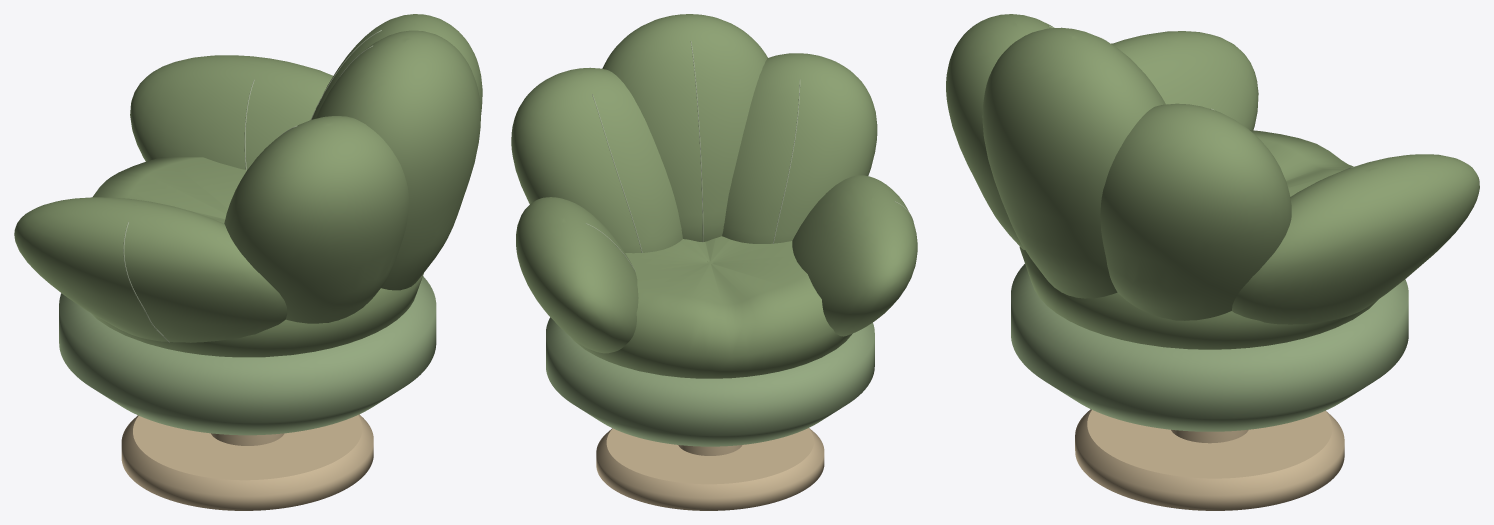
Rendered from chair.glb.
3 views of the same model, side by side, from view 1: azimuth 30°, elevation 25°; view 2: azimuth 150°, elevation 25°; view 3: azimuth 270°, elevation 25° (orthographic). The views are drawn at different scales.
Visible parts, largest first — view 1: part_00011, part_00002, part_00004, part_00000, part_00012, part_00009, part_00013, part_00007, part_00006; view 2: part_00013, part_00011, part_00000, part_00007, part_00002, part_00004, part_00012, part_00009, part_00006; view 3: part_00011, part_00007, part_00000, part_00009, part_00012, part_00013, part_00004, part_00002, part_00006.
Boxes of the visible parts, <box> form: part_00011: <box>59,276,436,435</box>; part_00002: <box>224,116,408,323</box>; part_00004: <box>14,197,287,342</box>; part_00000: <box>315,30,480,290</box>; part_00012: <box>121,414,373,510</box>; part_00009: <box>130,55,332,169</box>; part_00013: <box>91,157,423,357</box>; part_00007: <box>311,14,482,119</box>; part_00006: <box>211,433,284,445</box>; part_00013: <box>571,236,852,378</box>; part_00011: <box>546,317,874,446</box>; part_00000: <box>602,14,767,241</box>; part_00007: <box>511,67,682,253</box>; part_00002: <box>722,53,877,243</box>; part_00004: <box>792,175,917,336</box>; part_00012: <box>596,428,824,510</box>; part_00009: <box>516,197,638,353</box>; part_00006: <box>678,445,742,455</box>; part_00011: <box>1011,264,1408,431</box>; part_00007: <box>1100,103,1291,320</box>; part_00000: <box>982,27,1165,298</box>; part_00009: <box>1232,154,1479,324</box>; part_00012: <box>1075,409,1344,510</box>; part_00013: <box>1019,130,1378,349</box>; part_00004: <box>1111,31,1258,130</box>; part_00002: <box>946,14,1054,249</box>; part_00006: <box>1171,429,1248,443</box>.
Size of the model in its own units: 0.6634 by 0.6406 by 0.6572.
